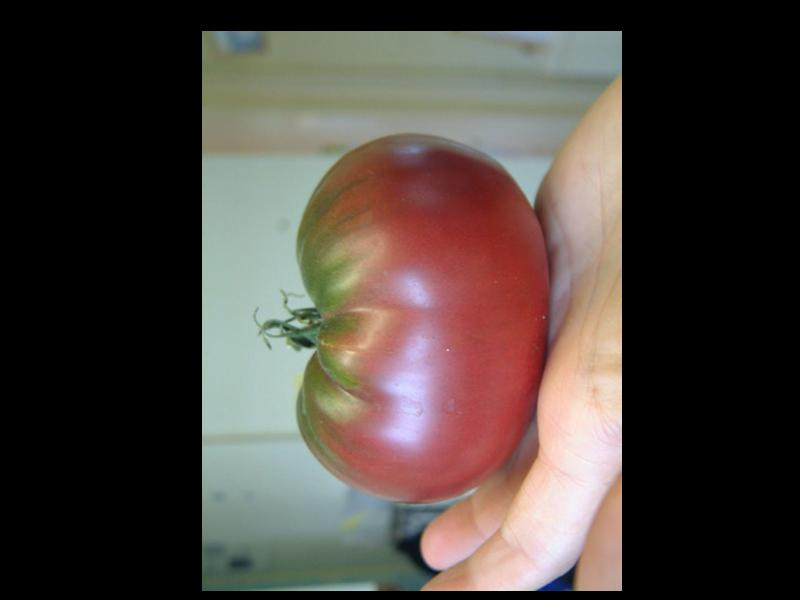Tomato: (295, 133, 549, 503)
